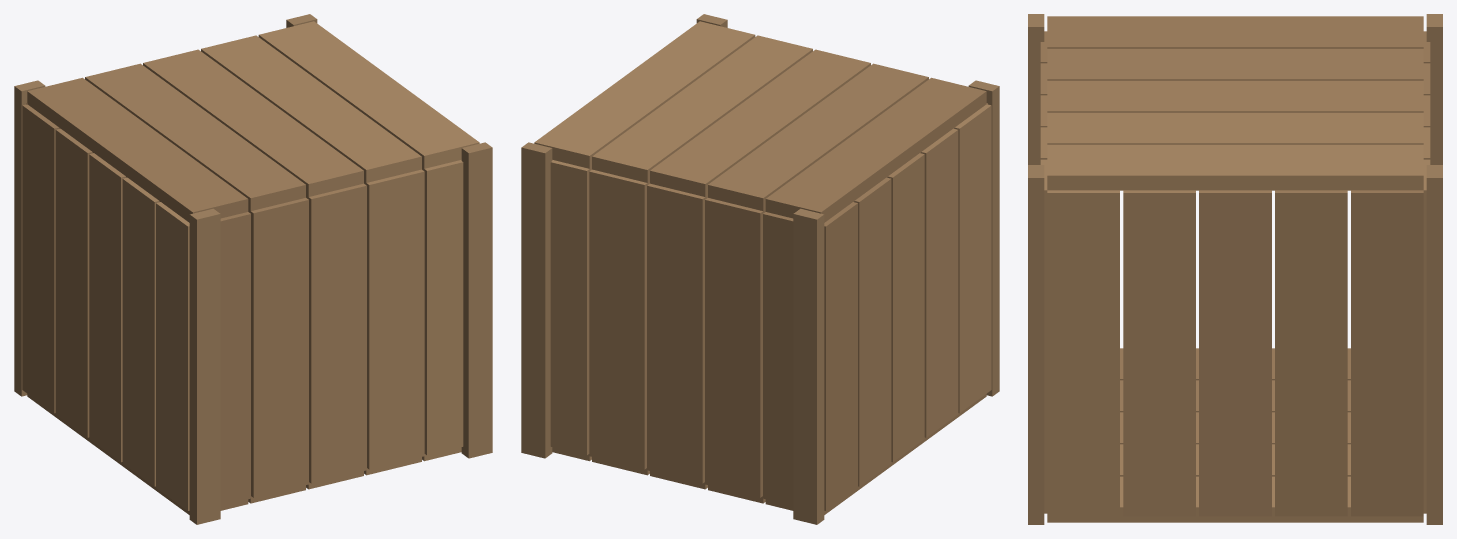
The model's file is wooden_crate.glb.
The picture shows the model from 3 angles, left to right: view 1: azimuth 30°, elevation 25°; view 2: azimuth 150°, elevation 25°; view 3: azimuth 270°, elevation 25°; orthographic projection. The views are drawn at different scales.
Parts seen in each view (by area): view 1: geometry_0; view 2: geometry_0; view 3: geometry_0.
Part boxes in pixels (x1,y1,x2,y2): geometry_0: [14, 14, 492, 524]; geometry_0: [521, 14, 999, 524]; geometry_0: [1028, 14, 1442, 524].
Bounding box in the file's own units: 0.6 × 0.59 × 0.639.
